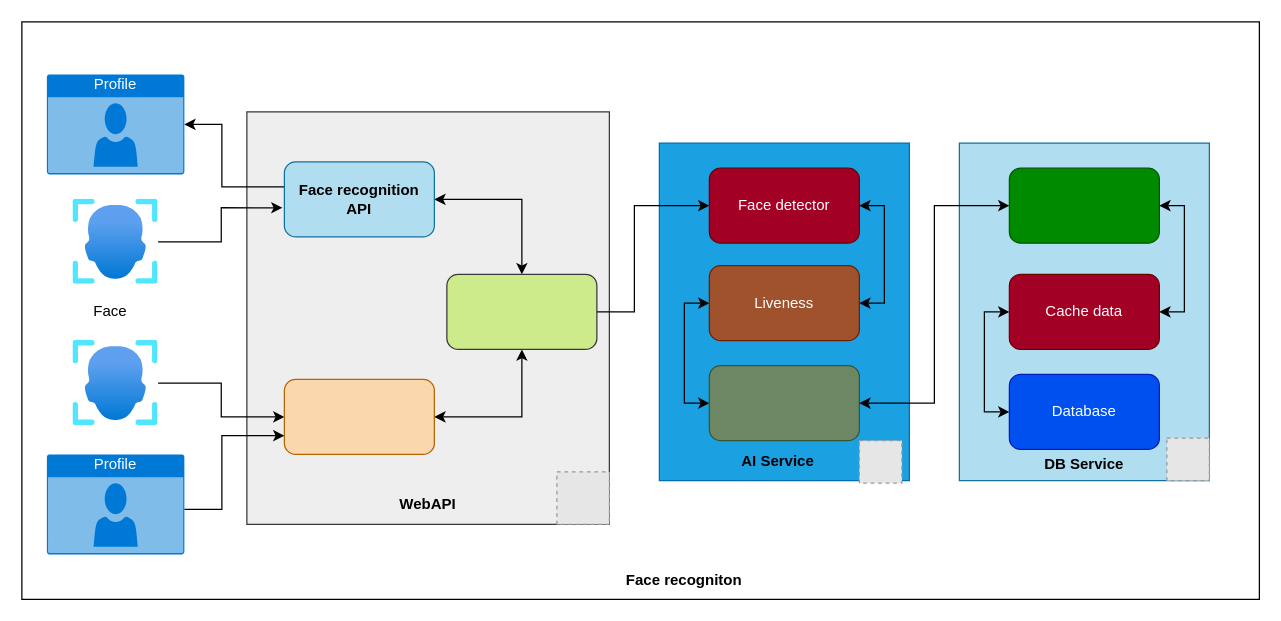
Image size: 1281x621. Some labels were removed from this diagram. Grey dashed boxes stand in for pictures. The shapes that lost their labels are listed below. From the top down, each one's centre as x and y in pixels, then its label:
[1083,205]: Search engine
[521,311]: FastAPI
[358,416]: Face registration API
[783,402]: Face recognition
